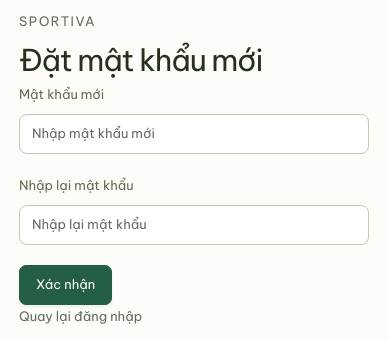
it: account email actions › exposes public route /reset-password?token=test-capability and submits its official contract
In the password field labelled "Mật khẩu mới": (194, 134) [19, 114, 369, 154], type "new-password"
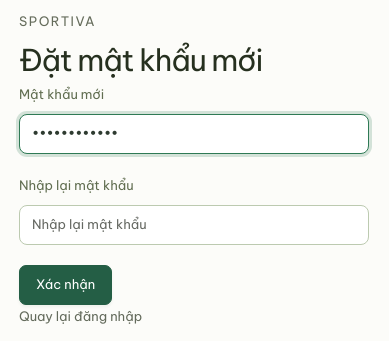
In the password field labelled "Nhập lại mật khẩu": (194, 225) [19, 205, 369, 245], type "new-password"
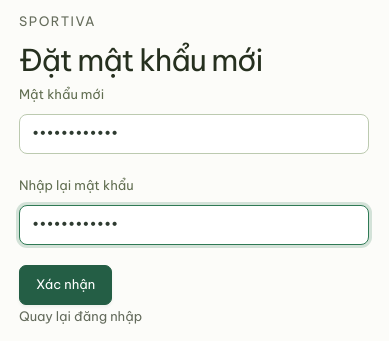
Click the button "Xác nhận": (66, 285) [19, 265, 112, 305]
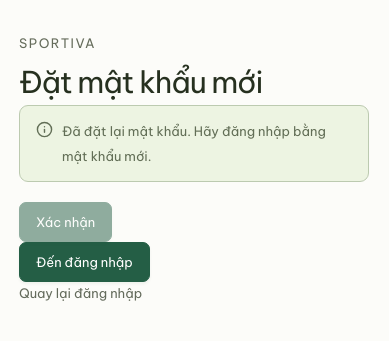
Expected: the text "Đã đặt lại mật khẩu. Hãy đăng nhập bằng mật khẩu mới." is shown, [62, 119, 352, 168]
